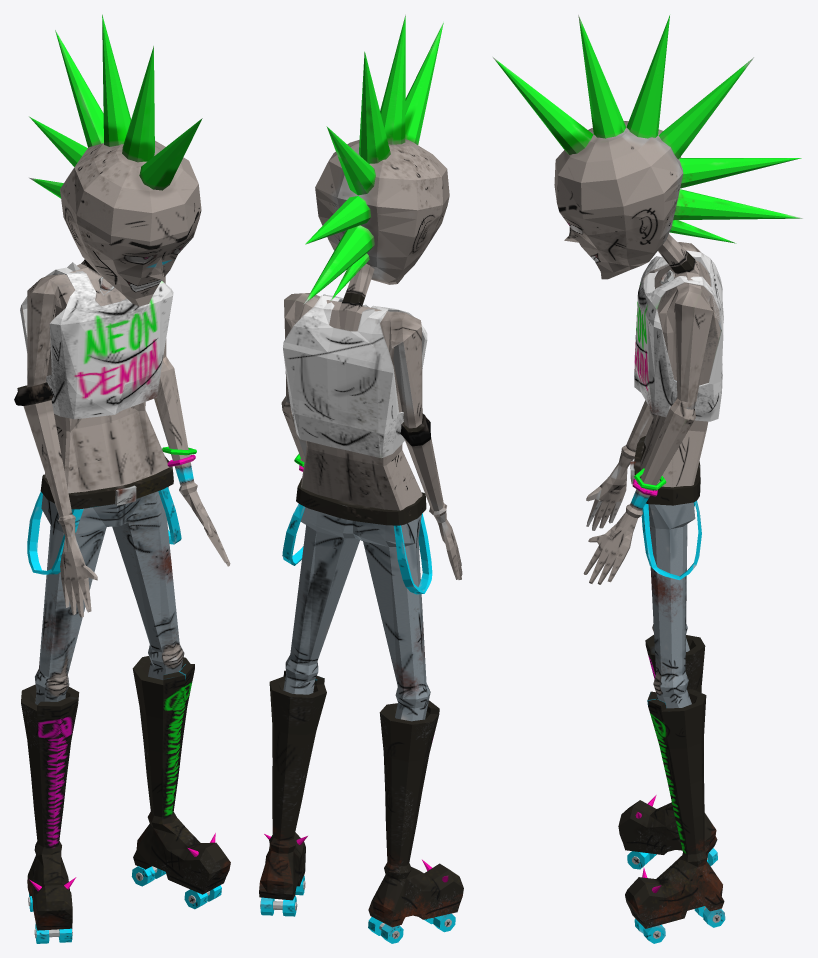
The model's file is punkAnimation_000035.obj.
The picture shows the model from 3 angles, left to right: view 1: azimuth 30°, elevation 25°; view 2: azimuth 150°, elevation 25°; view 3: azimuth 270°, elevation 25°; orthographic projection. The views are drawn at different scales.
Visible parts, largest first — view 1: Cube.004_Cube.003; view 2: Cube.004_Cube.003; view 3: Cube.004_Cube.003.
Part boxes in pixels (left/top/right/bottom): Cube.004_Cube.003: left=14, top=14, right=230, bottom=943; Cube.004_Cube.003: left=259, top=15, right=463, bottom=943; Cube.004_Cube.003: left=493, top=15, right=802, bottom=943.
Size of the model in its own units: 1.71 by 7.53 by 2.41.
